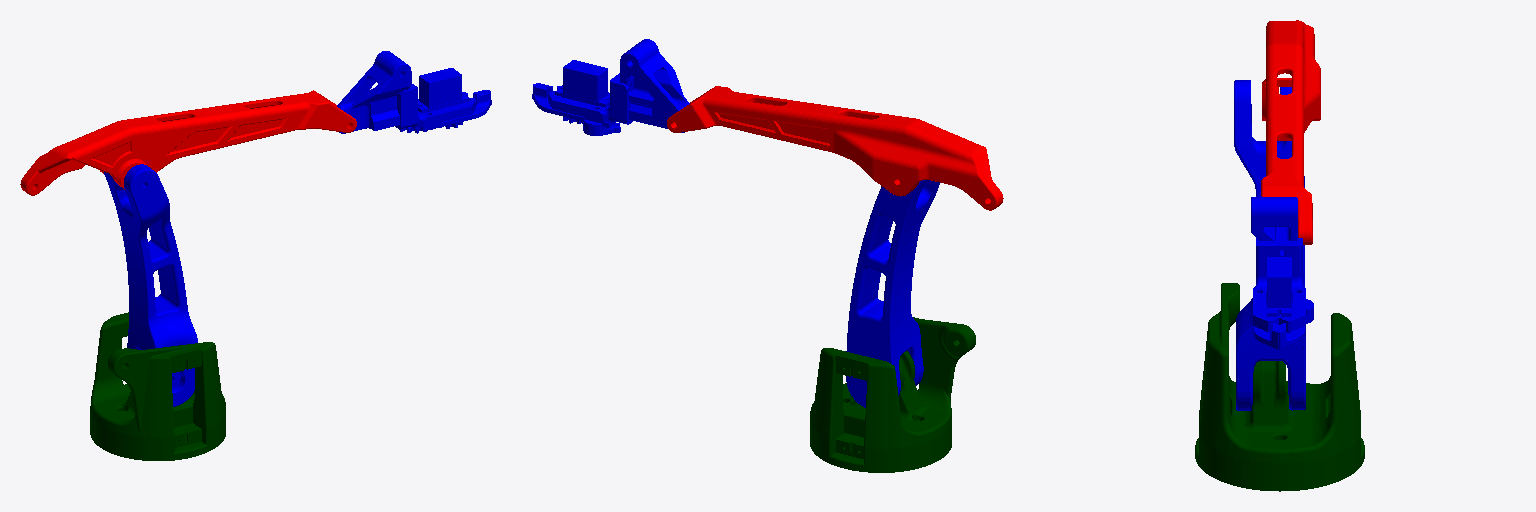
URDF robot description (sibot):
<?xml version="1.0"?>

<robot
  name="sibot">

<!-- BASE LINK -->
  <link
    name="base_link">
    <visual>
      <origin
        xyz="0 0 0"
        rpy="0 0 0" />
      <geometry>
        <mesh
          filename="package://sibot_urdf/meshes/base_link.STL" />
      </geometry>
      <material
        name="">
        <color
          rgba="0 0.275 0 1" />
      </material>
    </visual>
  </link>

<!-- JOINT 1 -->
  <joint
    name="joint_1"
    type="revolute">
    <origin
      xyz="0 0 0.05"
      rpy="0 0 0" />
    <parent
      link="base_link" />
    <child
      link="link_1" />
    <axis
      xyz="0 0 1" />
    <limit
      effort="0"
      velocity="0"
      lower="-0.7854" upper="0.7854"/>
      <!--   [-45,45]-->
  </joint>

<!-- LINK 1 -->
  <link
    name="link_1">
    <visual>
      <origin
        xyz="0 -0.04 0"
        rpy="0 0 0" />
      <geometry>
        <mesh
          filename="package://sibot_urdf/meshes/link_1.STL" />
      </geometry>
      <material
        name="">
        <color
          rgba="0 0.275 0 1" />
      </material>
    </visual>
  </link>

<!-- JOINT 2 -->
  <joint
    name="joint_2"
    type="revolute">
    <origin
      xyz="0 -0.005 0.035"
      rpy="1.578 0 0" />
    <parent
      link="link_1" />
    <child
      link="link_2" />
    <axis
      xyz="0 0 1" />
    <limit
      effort="0"
      velocity="0"
      lower="-0.6109" upper="0.9599"/>
      <!--   [-35,55]-->
  </joint>

<!-- LINK 2-->
  <link
    name="link_2">
    <visual>
      <origin
        xyz="0 0 0.0075"
        rpy="3.14159 0 0" />
      <geometry>
        <mesh
          filename="package://sibot_urdf/meshes/link_2.STL" />
      </geometry>
      <material
        name="">
        <color
          rgba="0 0 1 1" />
      </material>
    </visual>
  </link>

<!-- JOINT 3 -->
  <joint
    name="joint_3"
    type="revolute">
    <origin
      xyz="-0.021 0.133 -0.0105"
      rpy="0 0 0" />
    <parent
      link="link_2" />
    <child
      link="link_3" />
    <axis
      xyz="0 0 1" />
    <limit
      effort="0"
      velocity="0"
      lower="-1.2217" upper="0.3491"/>
      <!--   [-70,20]-->
  </joint>

<!-- LINK 3 -->
   <link
    name="link_3">
    <visual>
      <origin
        xyz="0 0 0.0335"
        rpy="3.14159 0 0.1309" />
      <geometry>
        <mesh
          filename="package://sibot_urdf/meshes/link_3.STL" />
      </geometry>
      <material
        name="">
        <color
          rgba="1 0 0 1" />
      </material>
    </visual>
  </link>

<!-- JOINT 4 -->
  <joint
    name="joint_4"
    type="revolute">
    <origin
      xyz="0.14 0 0"
      rpy="0 0 0" />
    <parent
      link="link_3" />
    <child
      link="link_4_EE" />
    <axis
      xyz="0 0 1" />
<!-- The value of this joint can be computed as value = multiplier * other_joint_value + offset. -->
    <mimic
      joint = "joint_3"
      multiplier= "-1"
      offset = "0"/>
      <limit
        effort="0"
        velocity="0"/>
  </joint>

<!-- LINK 4 -->
  <link
    name="link_4_EE">
    <visual>
      <origin
        xyz="0.006 -0.0014 0.0132"
        rpy="-1.578 0 0" />
      <geometry>
        <mesh
          filename="package://sibot_urdf/meshes/link_4_EE.STL" />
      </geometry>
      <material
        name="">
        <color
          rgba="0 0 1 1" />
      </material>
    </visual>
  </link>-->

</robot>

--- Render facts (derived) ---
3 views of the same robot in one strip: view 1: azimuth 30°, elevation 25°; view 2: azimuth 150°, elevation 25°; view 3: azimuth 270°, elevation 25° (orthographic).
Model sibot with 5 links and 4 joints (4 revolute), rooted at base_link, posed all joints at 0.
Visible links, largest first — view 1: link_1, link_3, link_2, link_4_EE; view 2: link_1, link_3, link_2, link_4_EE; view 3: link_1, link_3, link_4_EE, link_2.
Boxes of the visible links, left/top/right/bottom form: link_1: left=90, top=312, right=225, bottom=460; link_3: left=20, top=90, right=356, bottom=195; link_2: left=104, top=164, right=197, bottom=406; link_4_EE: left=337, top=51, right=491, bottom=133; link_1: left=810, top=317, right=975, bottom=472; link_3: left=667, top=86, right=1003, bottom=210; link_2: left=846, top=180, right=939, bottom=407; link_4_EE: left=532, top=39, right=689, bottom=135; link_1: left=1195, top=283, right=1364, bottom=491; link_3: left=1261, top=20, right=1320, bottom=244; link_4_EE: left=1251, top=197, right=1313, bottom=349; link_2: left=1234, top=80, right=1305, bottom=410.
Size in the robot's own frame: 0.3104 by 0.08 by 0.2077 metres.
Meshes: 5 distinct files referenced, 4 mesh visuals loaded (4 binary STL); not drawn: 1 (reference not matched to a file when rendering).